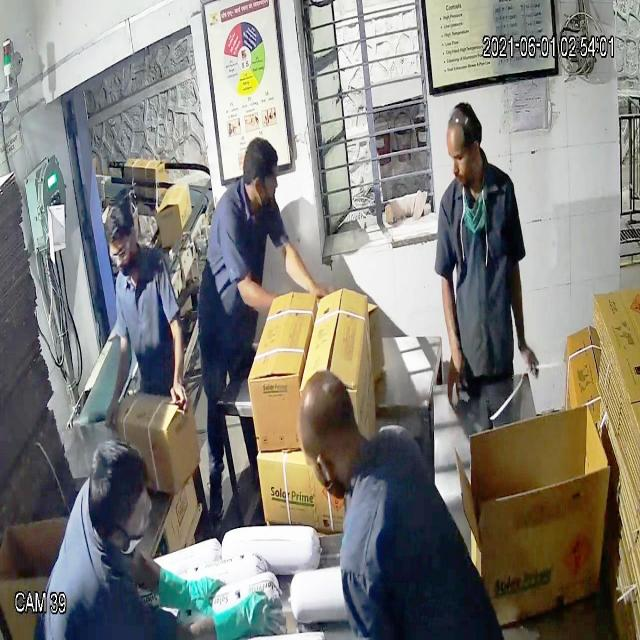glasses: (100, 235, 142, 269)
no-glass: (436, 134, 492, 175)
